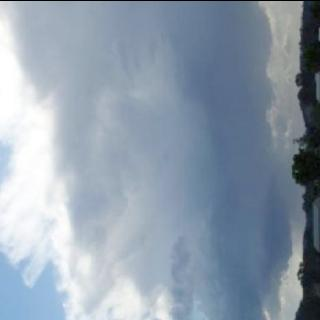Cumulonimbus: (0, 0, 296, 320)
